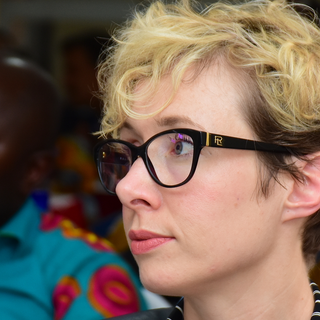eye: (162, 136, 201, 161)
